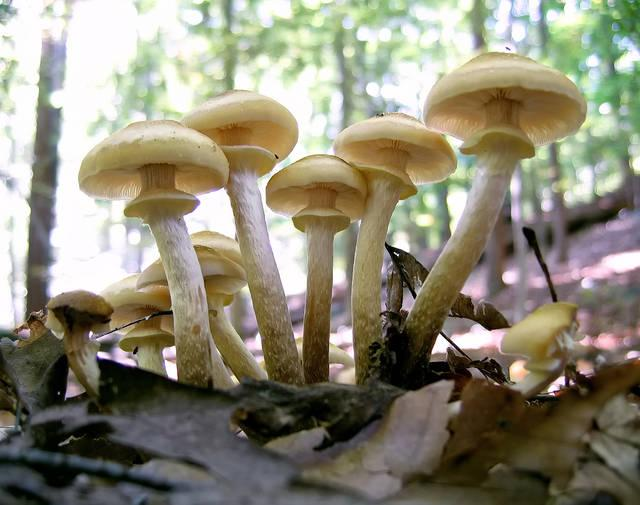Edible Mushroom: (396, 49, 587, 383), (77, 118, 234, 389), (179, 88, 302, 385), (331, 110, 457, 384), (264, 153, 367, 384)
